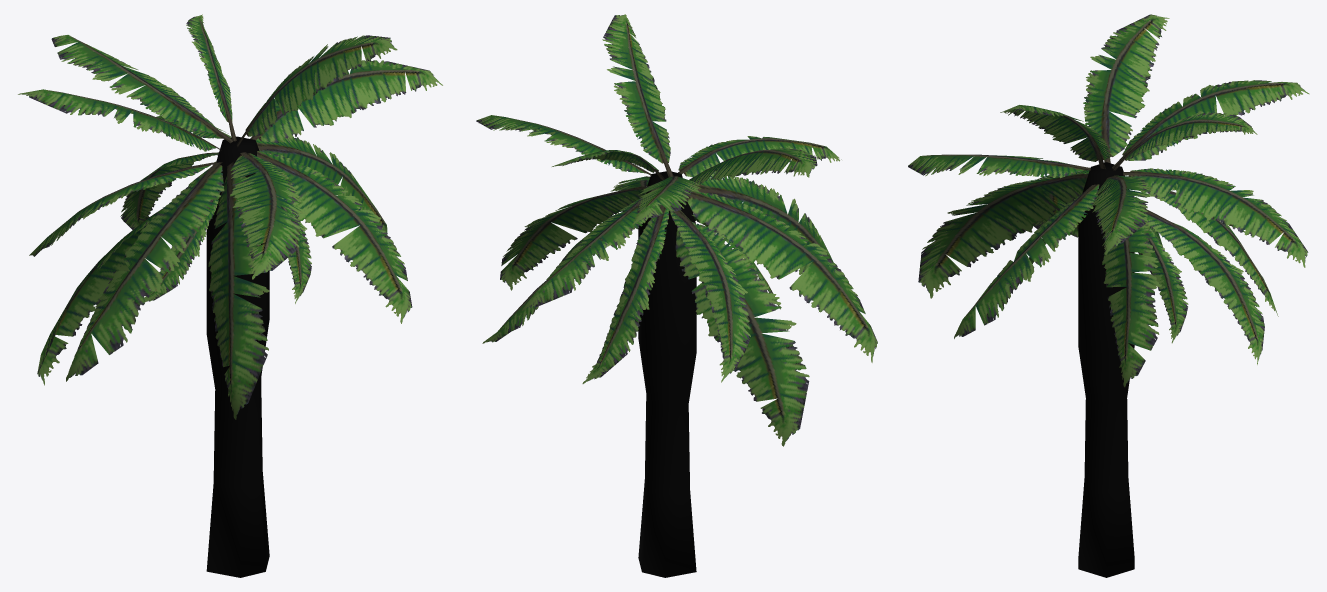
File: tree_01c.fbx
3 views of the same model, side by side, from view 1: azimuth 30°, elevation 25°; view 2: azimuth 150°, elevation 25°; view 3: azimuth 270°, elevation 25° (orthographic). The views are drawn at different scales.
Parts seen in each view (by area): view 1: tree_01c; view 2: tree_01c; view 3: tree_01c.
Part boxes in pixels (x1=…): tree_01c: x1=18, y1=14, x2=442, y2=577; tree_01c: x1=476, y1=14, x2=877, y2=577; tree_01c: x1=908, y1=14, x2=1309, y2=577.
Bounding box in the file's own units: 6.92 × 8.77 × 6.42.
